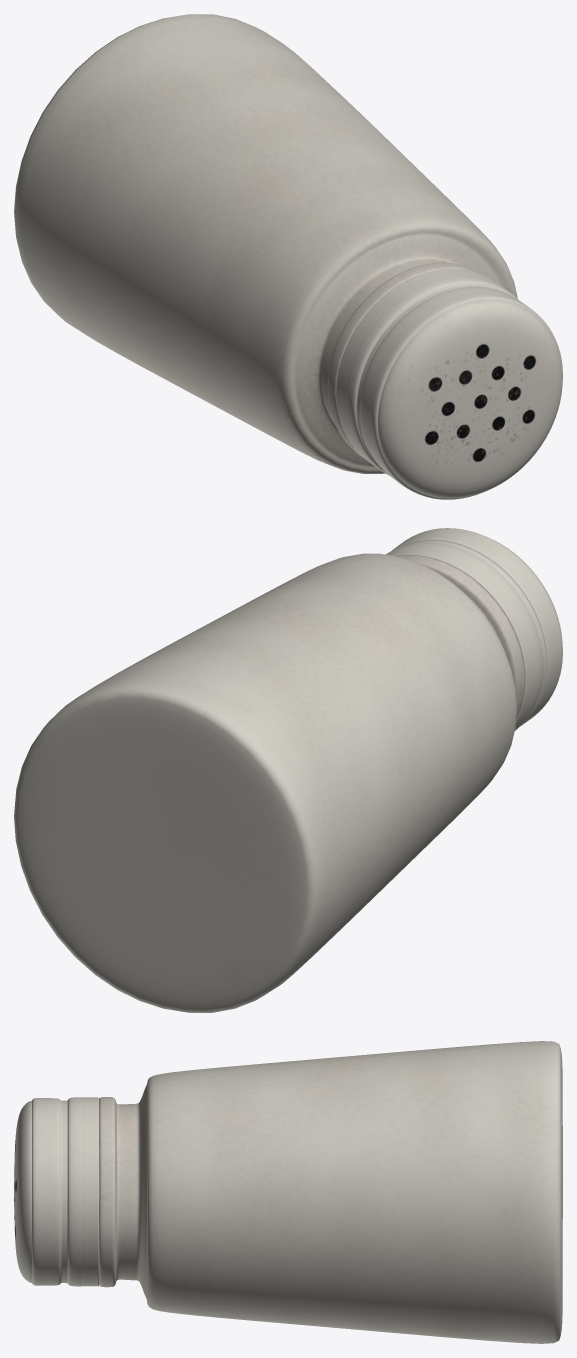
Rendered from salt_shaker.fbx.
The picture shows the model from 3 angles, top to bottom: view 1: azimuth 30°, elevation 25°; view 2: azimuth 150°, elevation 25°; view 3: azimuth 270°, elevation 25°; orthographic projection. The views are drawn at different scales.
Visible parts, largest first — view 1: pCylinder4, pCylinder3; view 2: pCylinder4, pCylinder3; view 3: pCylinder4, pCylinder3.
Boxes of the visible parts, box(x1,y1,x2,y2) form: pCylinder4: box(14, 14, 517, 473); pCylinder3: box(336, 269, 562, 499); pCylinder4: box(14, 553, 524, 1012); pCylinder3: box(385, 528, 562, 730); pCylinder4: box(99, 1041, 562, 1343); pCylinder3: box(14, 1097, 99, 1286).
Size of the model in its own units: 0.8709 by 0.8683 by 1.57.
2 materials, 2 textured.
